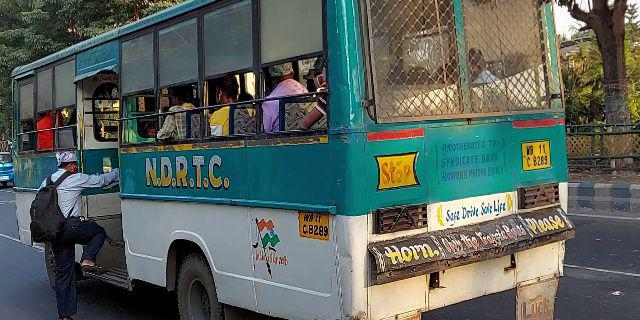Bus: (9, 3, 577, 320)
